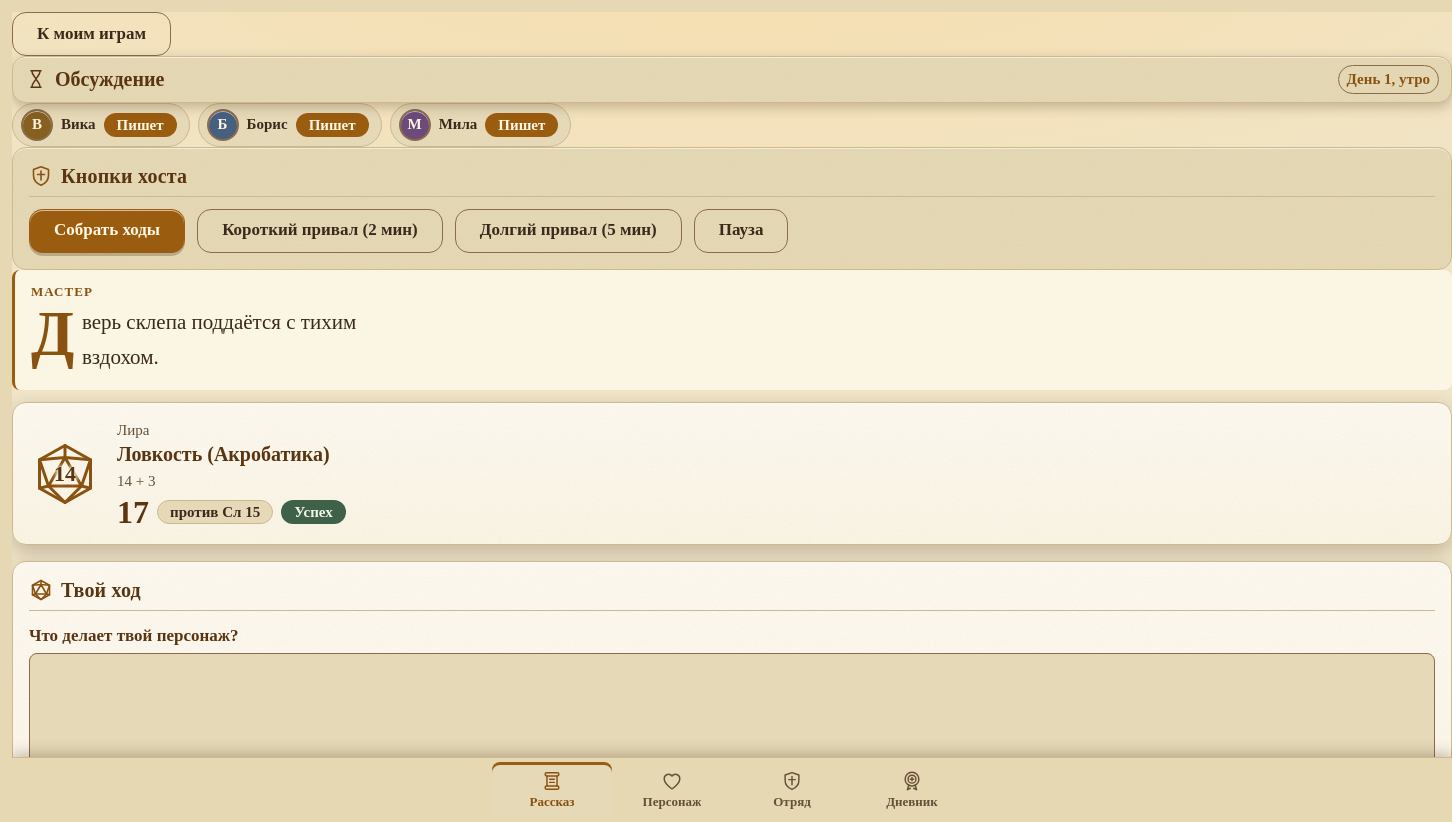
Test: вкладки › «Персонаж» показывает лист героя, лента скрыта
The image size is (1452, 822).
Click the tab "Персонаж" at (672, 790), box top-left (612, 762), bottom-right (732, 818)
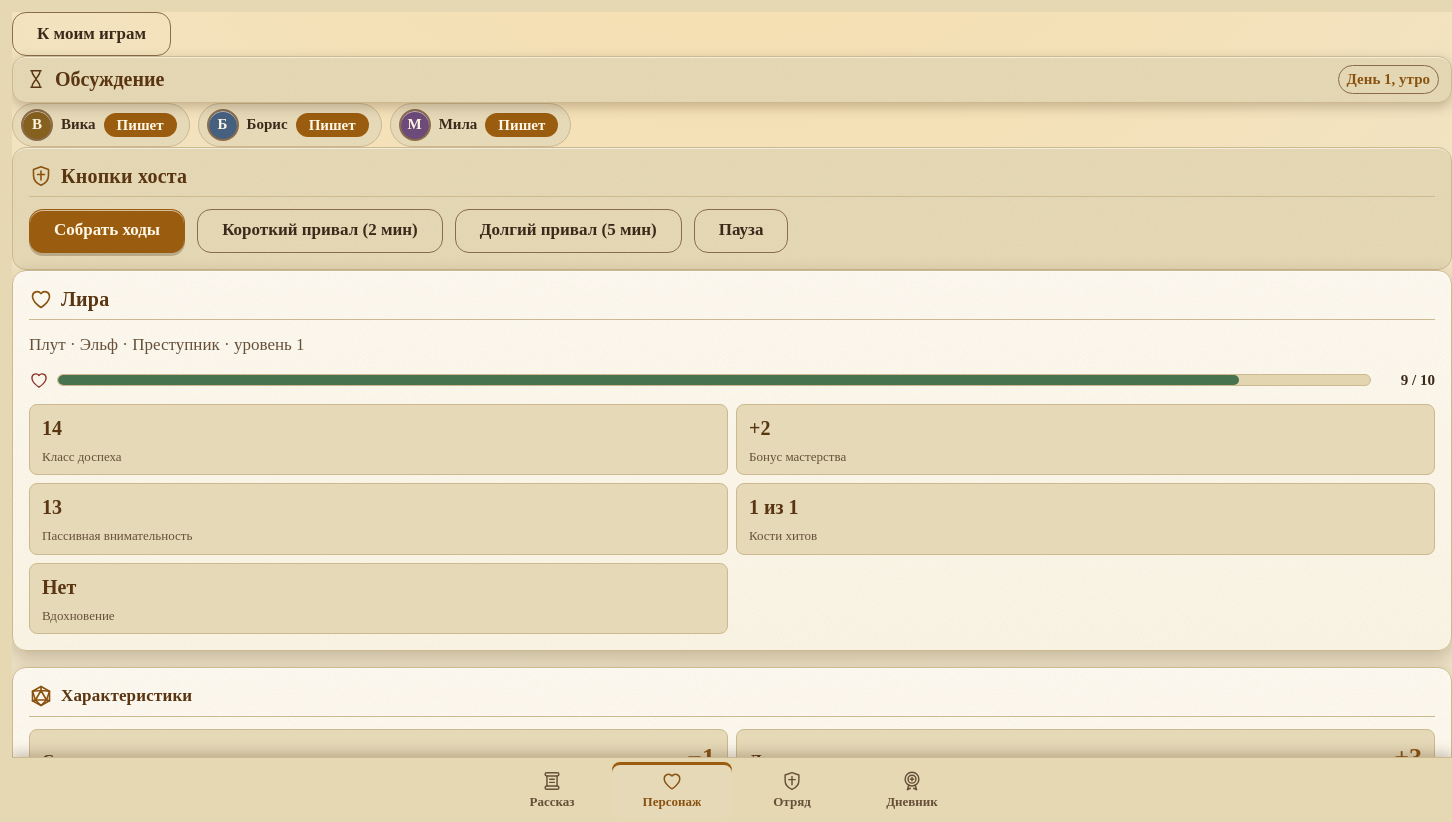
Check: the heading "Лира" is shown, box top-left (61, 286), bottom-right (109, 310)
Check: the text "Класс доспеха" is shown, box top-left (42, 448), bottom-right (122, 464)
Check: the text "Дверь склепа поддаётся с тихим вздохом." is gone
